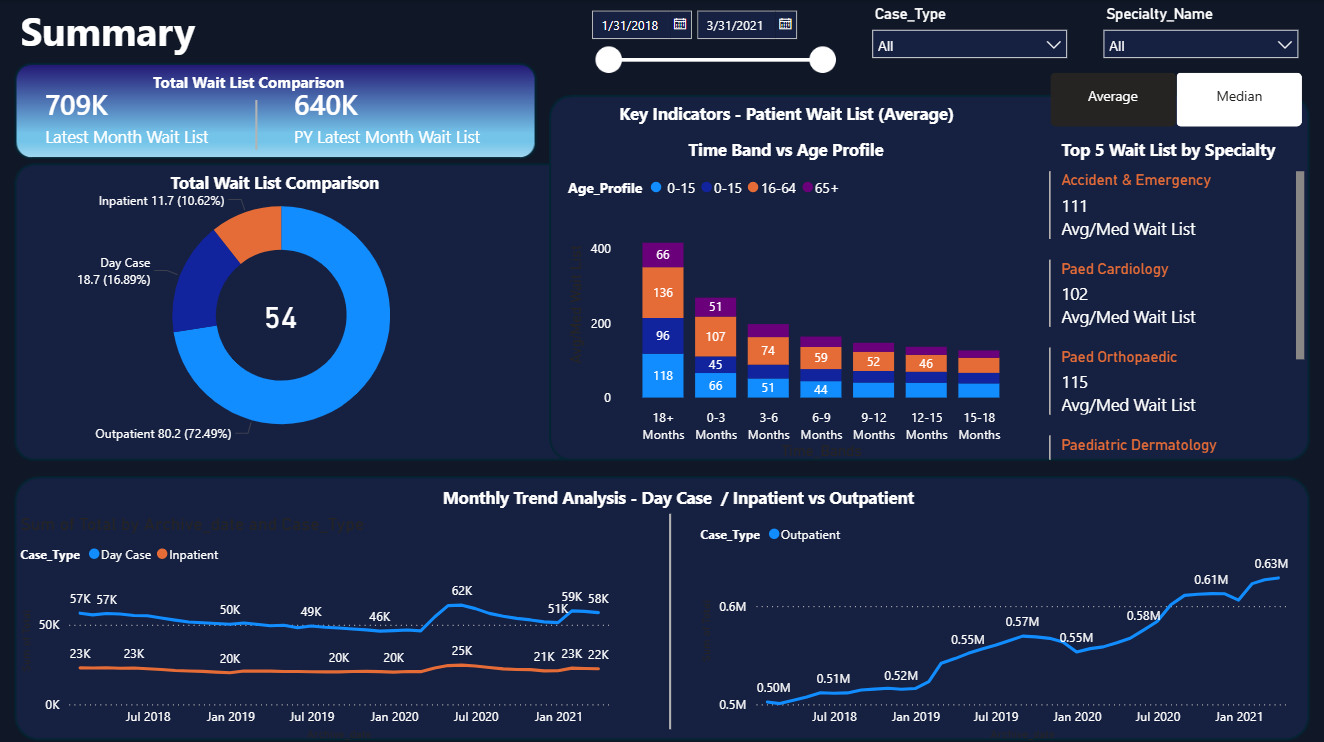

This screenshot's page, from the dashboard's own definition file:
{"tool":"powerbi","page":{"name":"Exe_Summary","canvas":[1280,720],"ordinal":0},"visuals":[{"type":"cardVisual","fields":{"Data":["Measure_tbl.Latest Month Wait List"]},"box":[16,64,240,96],"z":0},{"type":"cardVisual","fields":{"Data":["Measure_tbl.PY Latest Month Wait List"]},"box":[256,64,256,96],"z":1000},{"type":"advancedSlicerVisual","fields":{"Values":["Calculation_method.Calc_Method"]},"box":[1008,64,256,64],"z":2000},{"type":"donutChart","fields":{"Category":["All_Data.Case_Type"],"Y":["Measure_tbl.Avg/Med Wait List"]},"box":[32,160,480,288],"z":3000},{"type":"columnChart","fields":{"Y":["Measure_tbl.Avg/Med Wait List"],"Category":["All_Data.Time_Bands"],"Series":["All_Data.Age_Profile"]},"box":[544,160,448,288],"z":4000},{"type":"lineChart","fields":{"Y":["Sum(All_Data.Total)"],"Series":["All_Data.Case_Type"],"Category":["All_Data.Archive_date"]},"box":[16,496,592,224],"z":5000},{"type":"lineChart","fields":{"Y":["Sum(All_Data.Total)"],"Series":["All_Data.Case_Type"],"Category":["All_Data.Archive_date"]},"box":[672,496,592,224],"z":6000},{"type":"slicer","fields":{"Values":["All_Data.Archive_date"]},"box":[560,0,256,80],"z":7000},{"type":"slicer","fields":{"Values":["All_Data.Case_Type"]},"box":[832,0,208,64],"z":8000},{"type":"slicer","fields":{"Values":["All_Data.Specialty_Name"]},"box":[1056,0,208,64],"z":9000},{"type":"multiRowCard","fields":{"Values":["Mapping_Specialty.Specialty","Measure_tbl.Avg/Med Wait List"]},"box":[1008,160,256,288],"z":10000},{"type":"textbox","box":[16,0,208,64],"z":11000},{"type":"card","fields":{"Values":["Measure_tbl.Avg/Med Wait List"]},"box":[208,224,128,160],"z":12000},{"type":"shape","box":[224,96,48,48],"z":13000},{"type":"textbox","box":[144,64,224,32],"z":14000},{"type":"textbox","box":[160,160,224,32],"z":15000},{"type":"textbox","box":[640,128,240,32],"z":16000},{"type":"textbox","box":[1008,128,240,32],"z":17000},{"type":"shape","box":[624,496,48,208],"z":18000},{"type":"textbox","box":[384,464,544,32],"z":19000},{"type":"card","fields":{"Values":["Measure_tbl.Dynamic Title"]},"box":[592,80,336,64],"z":20000}]}

Visuals, with their boxes in screenshot pixels (x1, y1, x2, y2), scaled from the page's 1280x720 canvas onto the 1324x742 screenshot:
cardVisual - Measure_tbl.Latest Month Wait List: x1=17 y1=66 x2=265 y2=165
cardVisual - Measure_tbl.PY Latest Month Wait List: x1=265 y1=66 x2=530 y2=165
advancedSlicerVisual - Calculation_method.Calc_Method: x1=1043 y1=66 x2=1307 y2=132
donutChart - All_Data.Case_Type x Measure_tbl.Avg/Med Wait List: x1=33 y1=165 x2=530 y2=462
columnChart - Measure_tbl.Avg/Med Wait List x All_Data.Time_Bands: x1=563 y1=165 x2=1026 y2=462
lineChart - Sum(All_Data.Total) x All_Data.Case_Type: x1=17 y1=511 x2=629 y2=741
lineChart - Sum(All_Data.Total) x All_Data.Case_Type: x1=695 y1=511 x2=1307 y2=741
slicer - All_Data.Archive_date: x1=579 y1=0 x2=844 y2=82
slicer - All_Data.Case_Type: x1=861 y1=0 x2=1076 y2=66
slicer - All_Data.Specialty_Name: x1=1092 y1=0 x2=1307 y2=66
multiRowCard - Mapping_Specialty.Specialty x Measure_tbl.Avg/Med Wait List: x1=1043 y1=165 x2=1307 y2=462
textbox: x1=17 y1=0 x2=232 y2=66
card - Measure_tbl.Avg/Med Wait List: x1=215 y1=231 x2=348 y2=396
shape: x1=232 y1=99 x2=281 y2=148
textbox: x1=149 y1=66 x2=381 y2=99
textbox: x1=166 y1=165 x2=397 y2=198
textbox: x1=662 y1=132 x2=910 y2=165
textbox: x1=1043 y1=132 x2=1291 y2=165
shape: x1=645 y1=511 x2=695 y2=726
textbox: x1=397 y1=478 x2=960 y2=511
card - Measure_tbl.Dynamic Title: x1=612 y1=82 x2=960 y2=148
